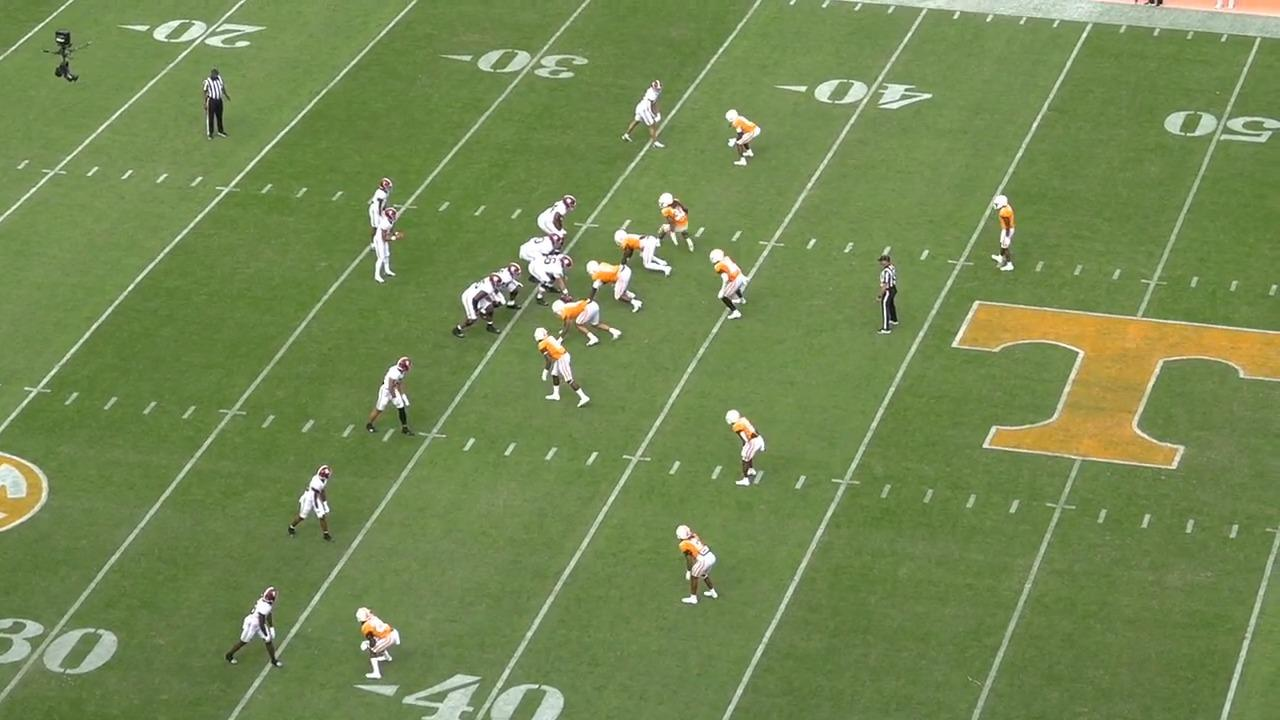defense: (538, 324, 599, 409), (677, 519, 724, 605), (346, 604, 395, 686), (553, 300, 625, 352), (722, 407, 764, 491), (583, 258, 644, 314), (611, 231, 674, 283), (710, 246, 751, 324), (651, 187, 694, 253), (984, 194, 1017, 277), (719, 103, 760, 169)
oline: (451, 275, 504, 342), (533, 251, 580, 304), (481, 261, 522, 317), (521, 229, 573, 271), (534, 193, 577, 240)
qb: (364, 209, 396, 288)
ref: (871, 253, 900, 344), (202, 66, 232, 144)
skill: (225, 585, 291, 675), (355, 353, 413, 439), (278, 462, 331, 546), (618, 76, 668, 156), (367, 174, 395, 254)
